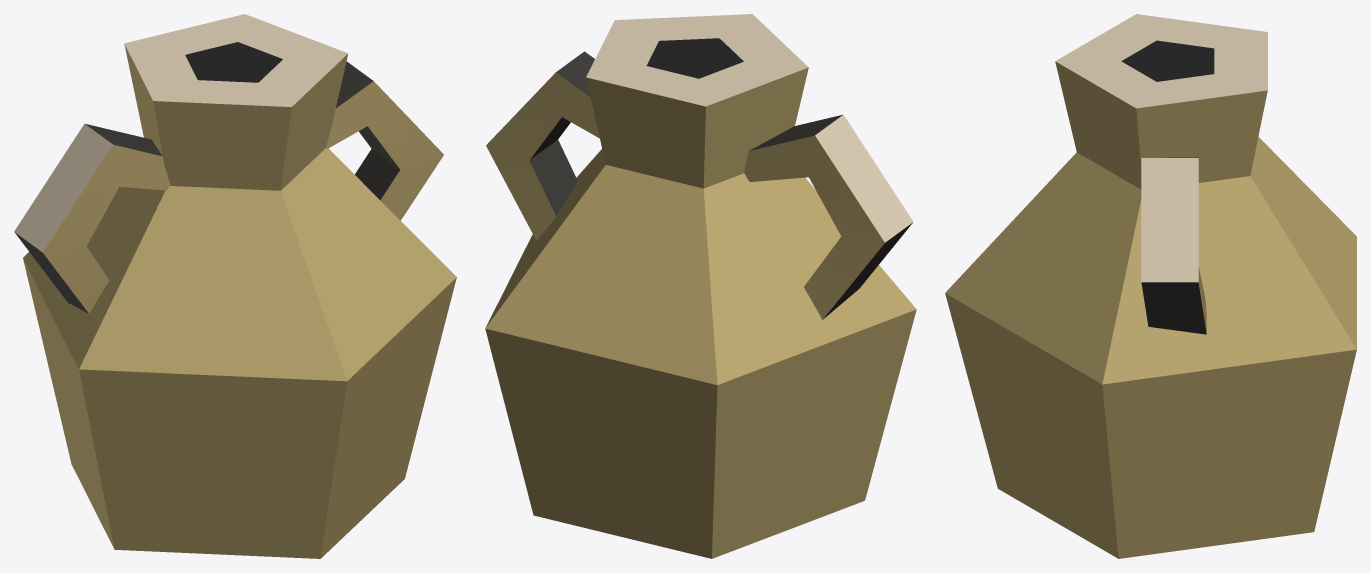
Rendered from TB_D_Prop_Jar_D.FBX.
3 views of the same model, side by side, from view 1: azimuth 30°, elevation 25°; view 2: azimuth 150°, elevation 25°; view 3: azimuth 270°, elevation 25° (orthographic).
Parts seen in each view (by area): view 1: TB_D_Prop_Jar_D; view 2: TB_D_Prop_Jar_D; view 3: TB_D_Prop_Jar_D.
Boxes of the visible parts, x1,y1,x2,y2 form: TB_D_Prop_Jar_D: (14,14,456,558); TB_D_Prop_Jar_D: (485,14,916,558); TB_D_Prop_Jar_D: (945,14,1356,558).
Bounding box in the file's own units: 0.8156 × 0.8363 × 0.7304.
